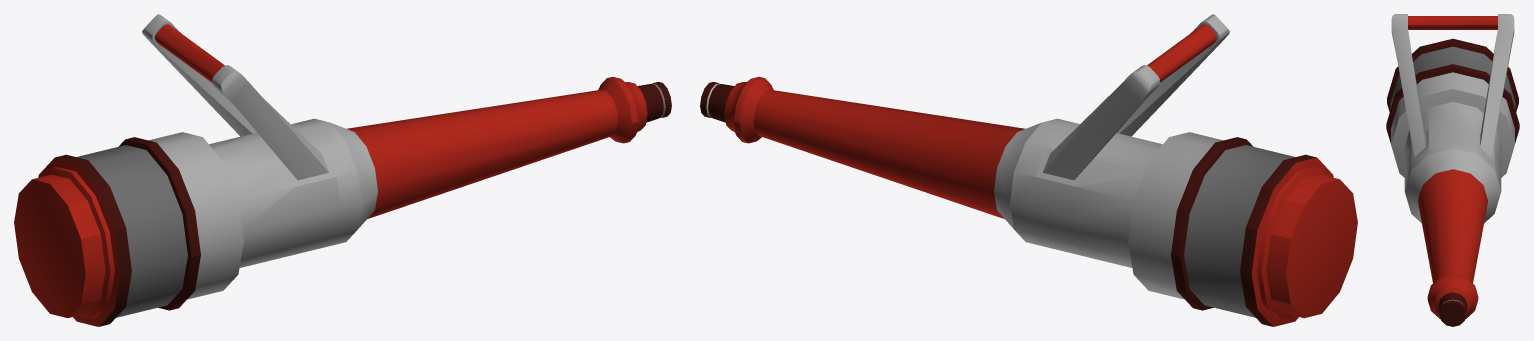
File: firehose.fbx
3 renders of one model, left to right at view 1: azimuth 30°, elevation 25°; view 2: azimuth 150°, elevation 25°; view 3: azimuth 270°, elevation 25°, orthographic. The views are drawn at different scales.
Visible parts, largest first — view 1: Cylinder; view 2: Cylinder; view 3: Cylinder.
Boxes of the visible parts, <box> form: Cylinder: <box>14,14,671,326</box>; Cylinder: <box>700,14,1357,326</box>; Cylinder: <box>1386,14,1519,326</box>.
Bounding box in the file's own units: 146 × 56.98 × 36.56.
